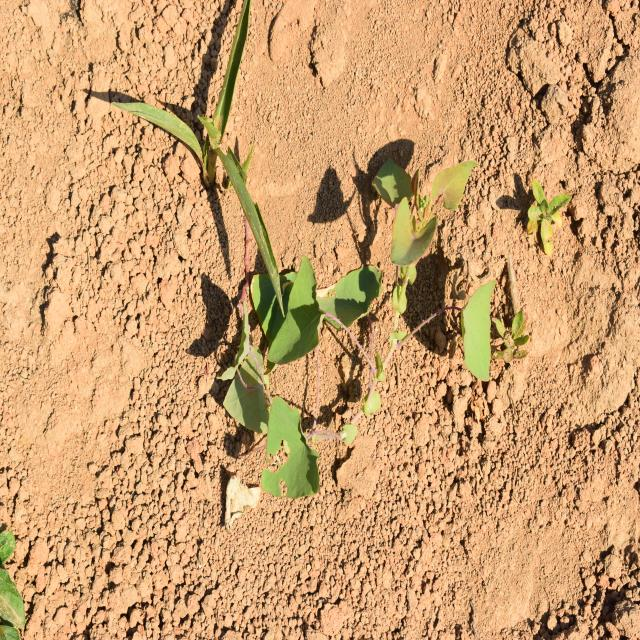Asiatic_Smartweed: (235, 266, 366, 492), (384, 136, 494, 385)
